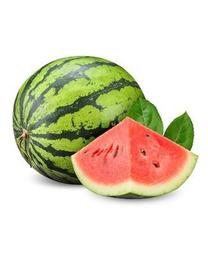watermelon: (14, 56, 150, 187), (67, 115, 199, 199)
